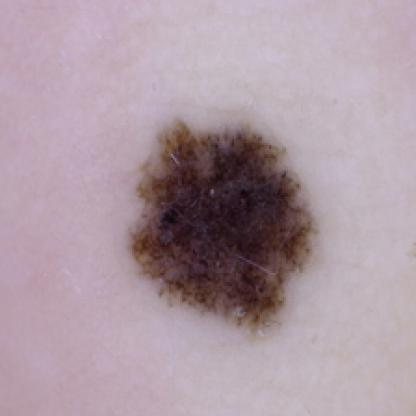benign: (136, 122, 310, 327)
